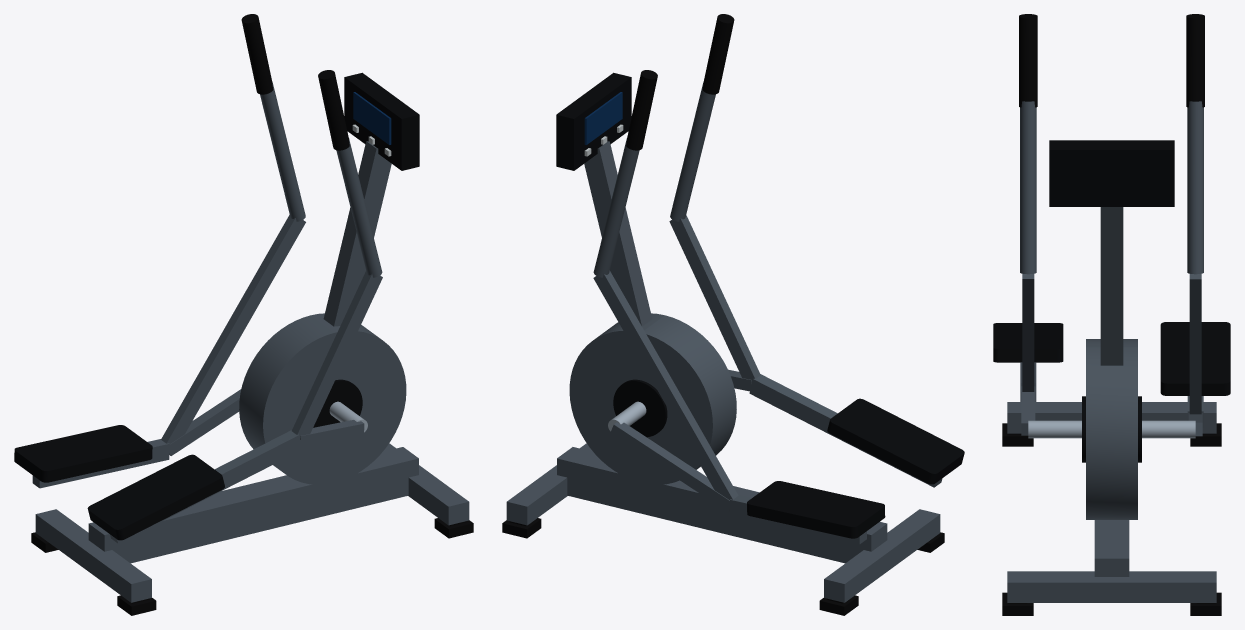
File: cad_elliptical.glb
3 renders of one model, left to right at view 1: azimuth 30°, elevation 25°; view 2: azimuth 150°, elevation 25°; view 3: azimuth 270°, elevation 25°, orthographic. The views are drawn at different scales.
Visible parts, largest first — view 1: 007_Flywheel enclosure, 006_Central frame, 026_Foot cradle, 019_Foot cradle, 020_Pedal to arm linkage, 010_Handle mast, 000_Stabilizer rail, 011_Control console, 027_Pedal to arm linkage, 025_Moving foot bar, 003_Stabilizer rail, 028_Moving handle lower (+8 smaller); view 2: 007_Flywheel enclosure, 006_Central frame, 026_Foot cradle, 019_Foot cradle, 020_Pedal to arm linkage, 000_Stabilizer rail, 010_Handle mast, 011_Control console, 027_Pedal to arm linkage, 017_Crank link, 025_Moving foot bar, 003_Stabilizer rail (+7 smaller); view 3: 007_Flywheel enclosure, 011_Control console, 003_Stabilizer rail, 019_Foot cradle, 010_Handle mast, 021_Moving handle lower, 028_Moving handle lower, 000_Stabilizer rail, 026_Foot cradle, 006_Central frame, 020_Pedal to arm linkage, 022_Moving handle grip (+9 smaller).
Part boxes in pixels (x1,y1,x2,y2): 007_Flywheel enclosure: (239,313,406,484); 006_Central frame: (88,447,418,563); 026_Foot cradle: (87,454,224,540); 019_Foot cradle: (14,425,152,482); 020_Pedal to arm linkage: (161,215,305,443); 010_Handle mast: (323,141,391,326); 000_Stabilizer rail: (35,509,151,602); 011_Control console: (344,72,419,170); 027_Pedal to arm linkage: (291,271,382,438); 025_Moving foot bar: (110,430,302,543); 003_Stabilizer rail: (383,443,469,525); 028_Moving handle lower: (336,138,382,277); 007_Flywheel enclosure: (569,313,736,484); 006_Central frame: (557,447,887,563); 026_Foot cradle: (827,398,964,484); 019_Foot cradle: (747,481,885,538); 020_Pedal to arm linkage: (593,270,738,499); 000_Stabilizer rail: (824,509,940,602); 010_Handle mast: (584,141,652,326); 011_Control console: (556,72,631,170); 027_Pedal to arm linkage: (669,215,760,382); 017_Crank link: (610,422,729,512); 025_Moving foot bar: (749,374,942,487); 003_Stabilizer rail: (506,443,592,525); 007_Flywheel enclosure: (1086,339,1137,519); 011_Control console: (1049,140,1174,206); 003_Stabilizer rail: (1007,571,1216,602); 019_Foot cradle: (1160,322,1230,395); 010_Handle mast: (1100,207,1123,365); 021_Moving handle lower: (1187,101,1203,274); 028_Moving handle lower: (1020,101,1036,274); 000_Stabilizer rail: (1007,402,1216,433); 026_Foot cradle: (993,323,1063,362); 006_Central frame: (1094,520,1129,576); 020_Pedal to arm linkage: (1189,273,1201,414); 022_Moving handle grip: (1186,14,1204,107).
Size of the model in its own units: 1.31 by 1.68 by 0.68.
